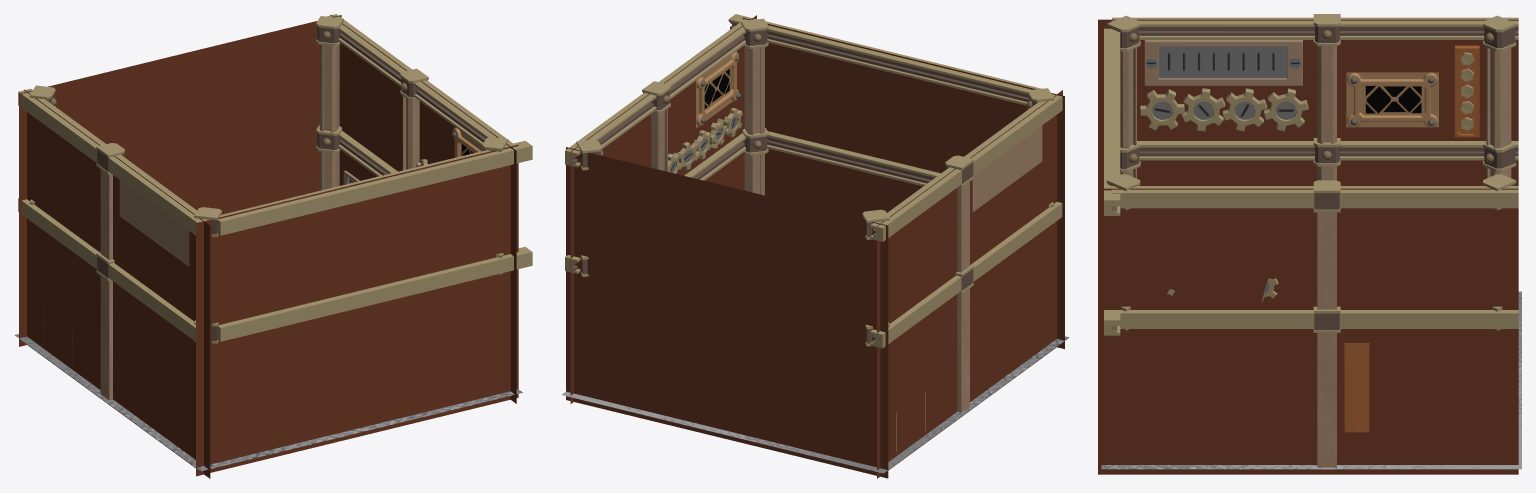
Rendered from gimmik4_1_room.fbx.
3 views of the same model, side by side, from view 1: azimuth 30°, elevation 25°; view 2: azimuth 150°, elevation 25°; view 3: azimuth 270°, elevation 25° (orthographic). The views are drawn at different scales.
Visible parts, largest first — view 1: WalBack, WalFront, WallRight, WallLeft, pillar, rail_05, rail_04, rail_01, rail_03, rail_00, Floor, fan (+2 smaller); view 2: WalFront, WallRight, WalBack, WallLeft, pillar, rail_05, rail_01, rail_03, rail_00, Floor, rail_04, fan (+6 smaller); view 3: WallLeft, WallRight, pillar, rail_03, rail_01, rail_02, fan, rail_00, detail_00, gear, pPlane3, rail_05 (+10 smaller).
Part boxes in pixels (<box>): WalBack: <box>196,144,518,476</box>; WalFront: <box>19,15,341,346</box>; WallRight: <box>24,89,210,478</box>; WallLeft: <box>330,14,516,403</box>; pillar: <box>100,44,419,400</box>; rail_05: <box>217,140,532,235</box>; rail_04: <box>217,246,532,341</box>; rail_01: <box>18,88,209,235</box>; rail_03: <box>326,14,515,147</box>; rail_00: <box>18,198,195,341</box>; Floor: <box>15,334,522,471</box>; fan: <box>119,170,359,266</box>; WalFront: <box>566,147,888,478</box>; WallRight: <box>877,90,1062,478</box>; WalBack: <box>742,17,1064,348</box>; WallLeft: <box>570,15,756,403</box>; pillar: <box>651,47,969,412</box>; rail_05: <box>728,14,1041,105</box>; rail_01: <box>870,94,1062,241</box>; rail_03: <box>565,19,749,167</box>; rail_00: <box>870,202,1062,348</box>; Floor: <box>561,336,1069,473</box>; rail_04: <box>767,131,940,186</box>; fan: <box>972,125,1042,211</box>; WallLeft: <box>1098,188,1518,474</box>; WallRight: <box>1098,19,1518,188</box>; pillar: <box>1120,46,1511,469</box>; rail_03: <box>1112,186,1518,208</box>; rail_01: <box>1112,17,1518,39</box>; rail_02: <box>1112,310,1518,328</box>; fan: <box>1144,40,1302,85</box>; rail_00: <box>1139,141,1518,160</box>; detail_00: <box>1344,45,1479,432</box>; gear: <box>1140,88,1308,301</box>; pPlane3: <box>1346,72,1438,127</box>; rail_05: <box>1104,28,1120,215</box>.
Bounding box in the file's own units: 2065 × 2016 × 1512.
